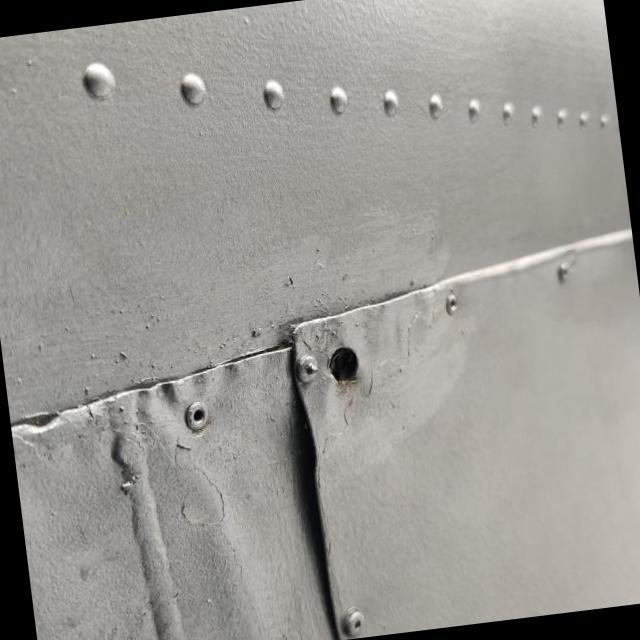Fastener Damage: (268, 296, 401, 428)
